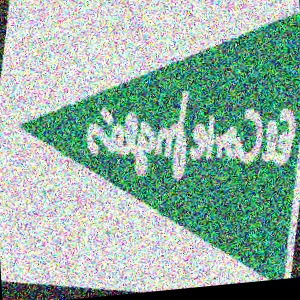corte_ingles: (281, 9, 300, 100)
